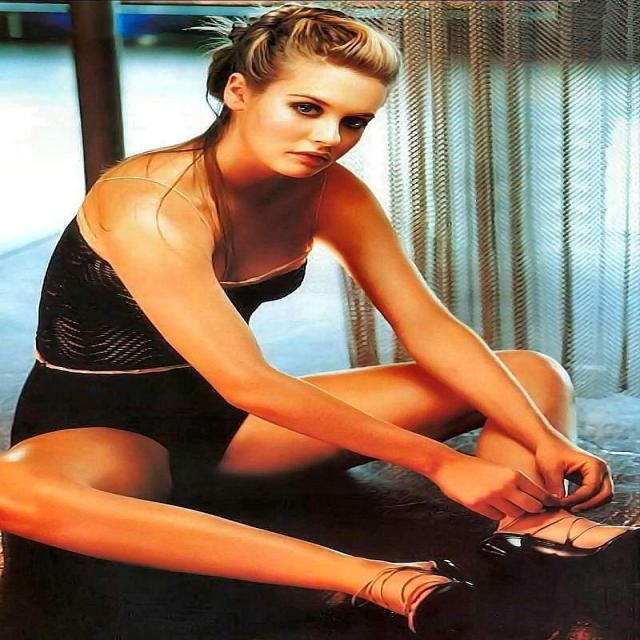no-earmuff: (198, 64, 270, 124)
